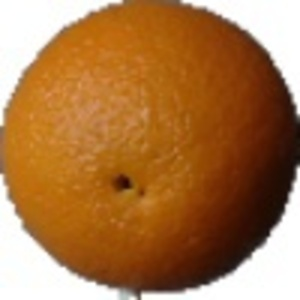laranja: (3, 3, 292, 295)
